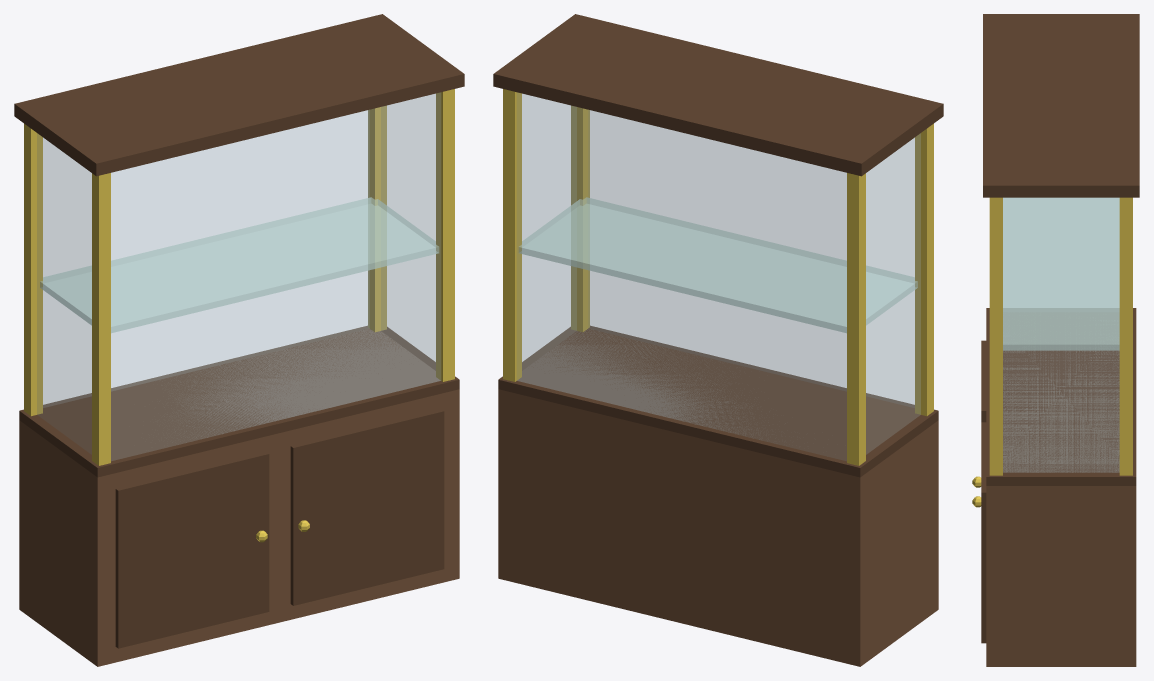
The model's file is cab_combo.glb.
The picture shows the model from 3 angles, left to right: view 1: azimuth 30°, elevation 25°; view 2: azimuth 150°, elevation 25°; view 3: azimuth 270°, elevation 25°; orthographic projection. The views are drawn at different scales.
Visible parts, largest first — view 1: cab_combo; view 2: cab_combo; view 3: cab_combo.
Part boxes in pixels (bbox=[...]): cab_combo: bbox=[14, 14, 464, 666]; cab_combo: bbox=[493, 14, 943, 666]; cab_combo: bbox=[972, 14, 1139, 666].
Size of the model in its own units: 1.22 by 1.6 by 0.5016.
